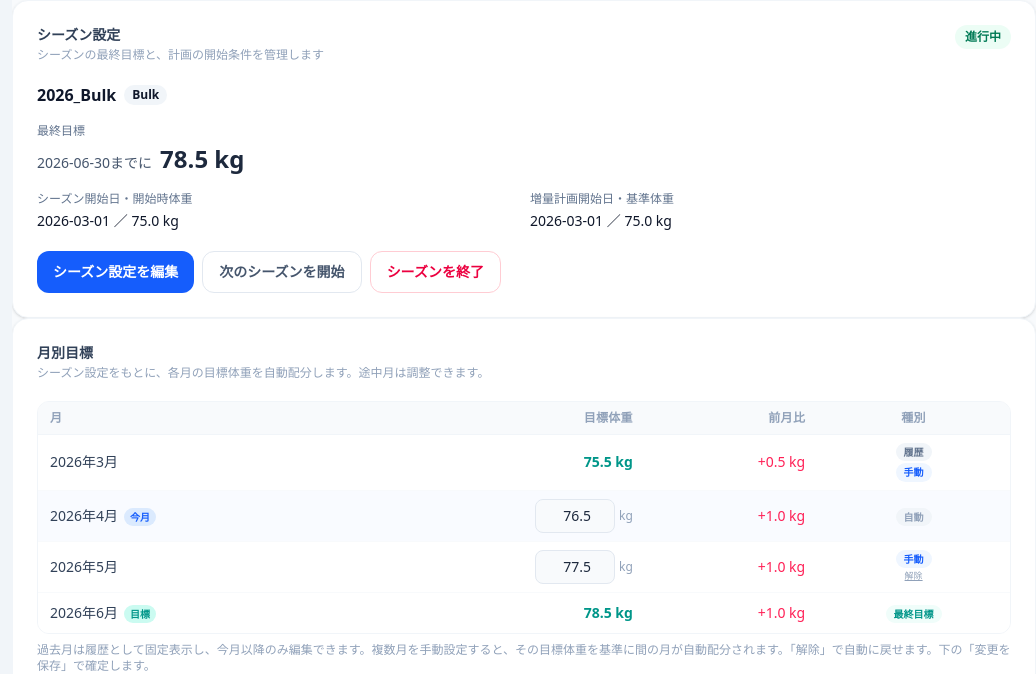
it: SeasonSettingsSections › 未記録日、NULL体重、Bulk上限超過を拒否する
Click the button "シーズン設定を編集" at (116, 272), box [37,251,194,293]
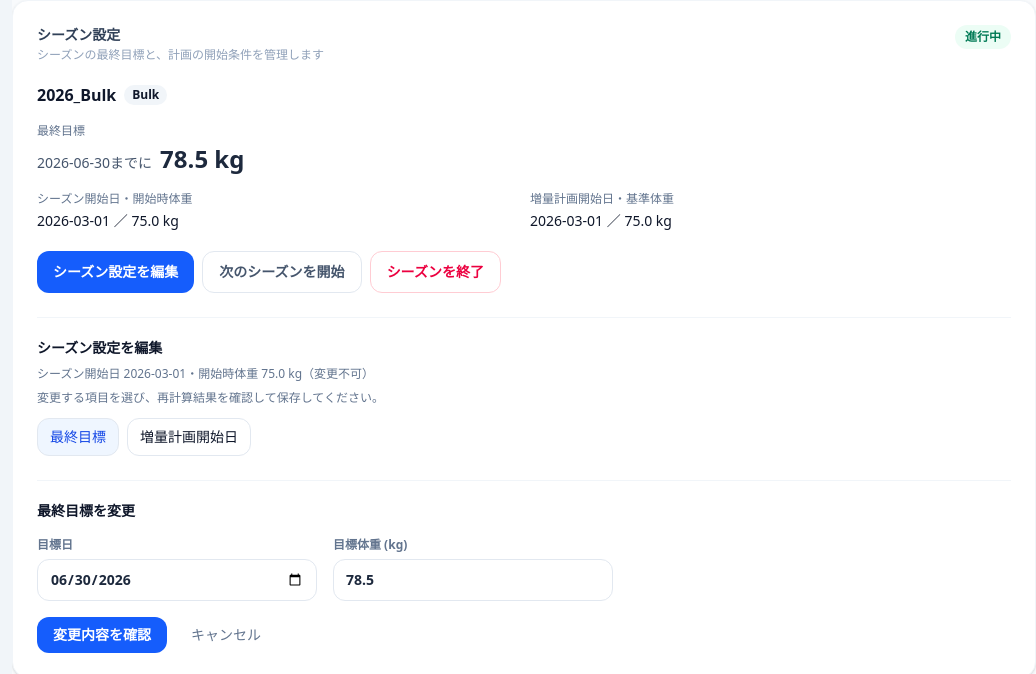
Click the button "増量計画開始日" at (189, 437), box [127,418,251,456]
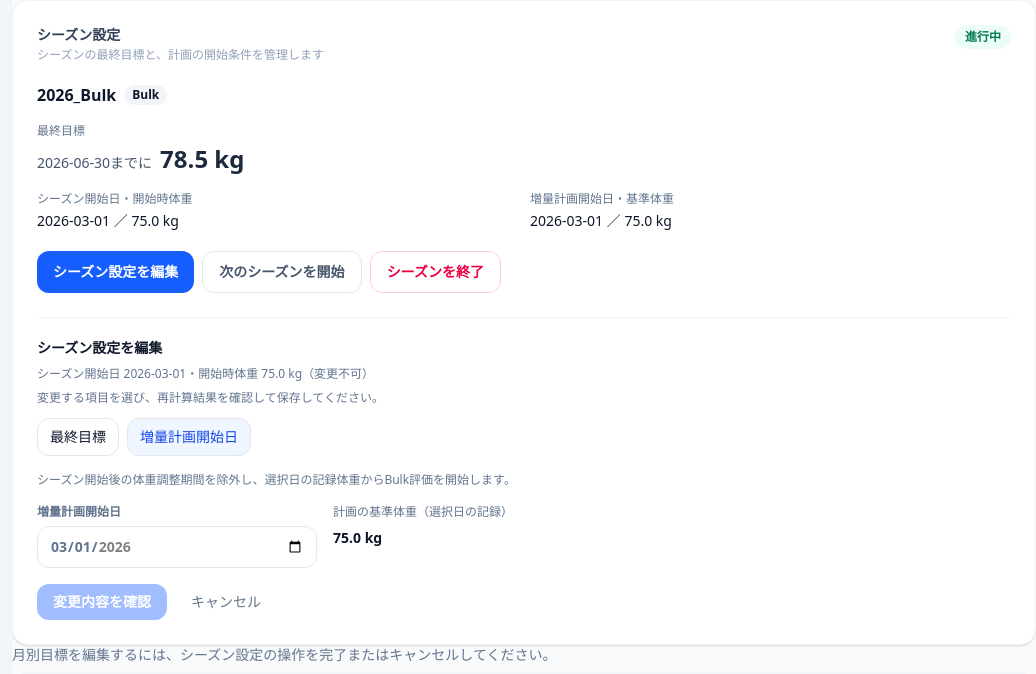
Type "2026-04-03" into the date field labelled "増量計画開始日" at (177, 547), box [37,526,317,568]
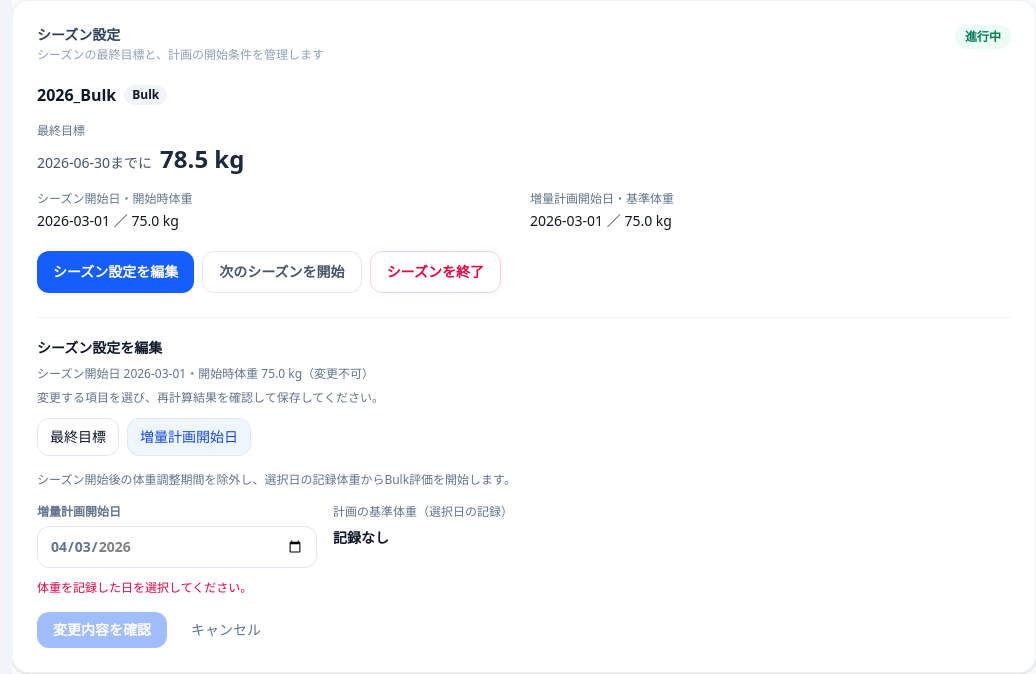
Expected: the button "変更内容を確認" is disabled, [37,612,167,648]
Expected: the text "体重を記録した日を選択してください。" is shown, [37,579,252,596]
Type "2026-04-04" into the date field labelled "増量計画開始日" at (177, 547), box [37,526,317,568]
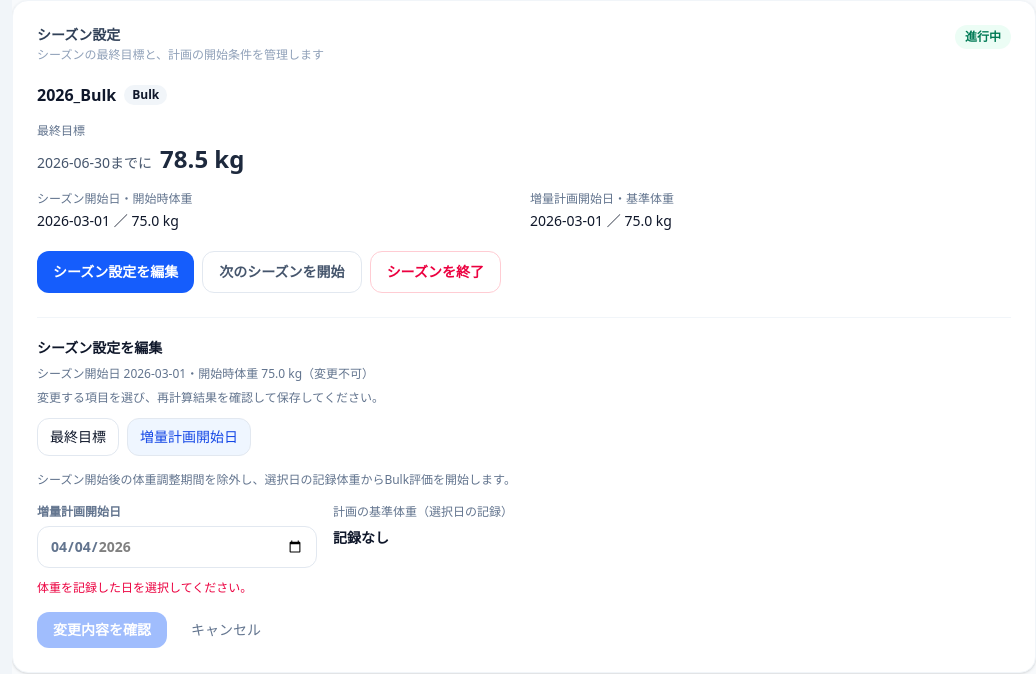
Expected: the text "体重を記録した日を選択してください。" is shown, [37,579,252,596]
Expected: the button "変更内容を確認" is disabled, [37,612,167,648]
Type "2026-04-02" into the date field labelled "増量計画開始日" at (177, 547), box [37,526,317,568]
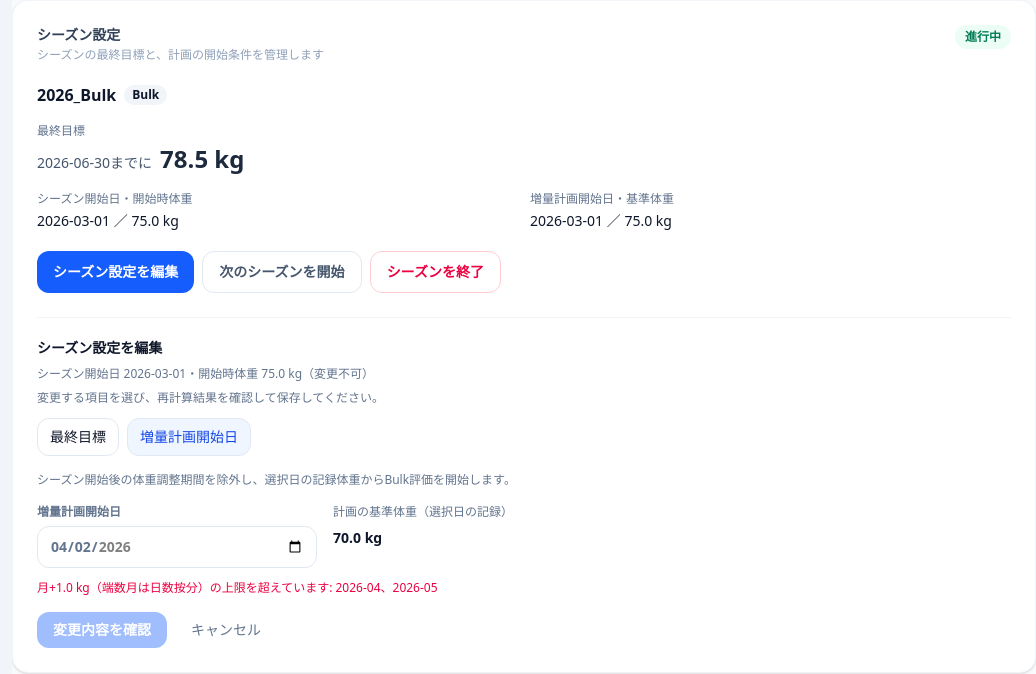
Expected: the button "変更内容を確認" is disabled, [37,612,167,648]
Expected: the text "月+1.0 kg（端数月は日数按分）の上限を超えています: 2026-04、2026-05" is shown, [37,579,438,596]
